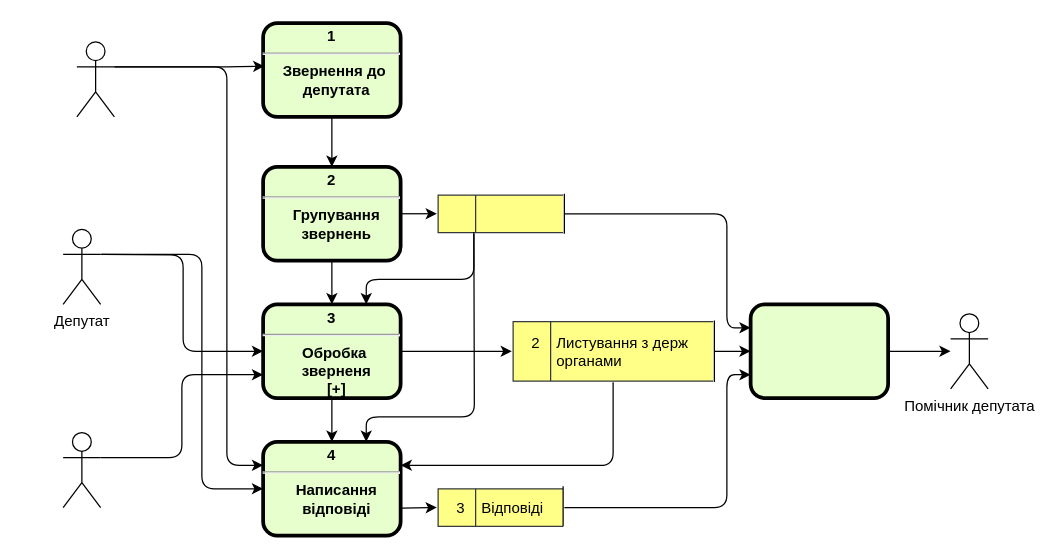
This 1056x559 diagram has some shape labels left out. The centre of each missing label's shape, as x and y in pixels:
"1 Звернення" belongs at (500,213).
"5 Аналіз звернень [x]" belongs at (818,350).
"Громадянин" belongs at (95,79).
"Державний орган" belongs at (81,469).
